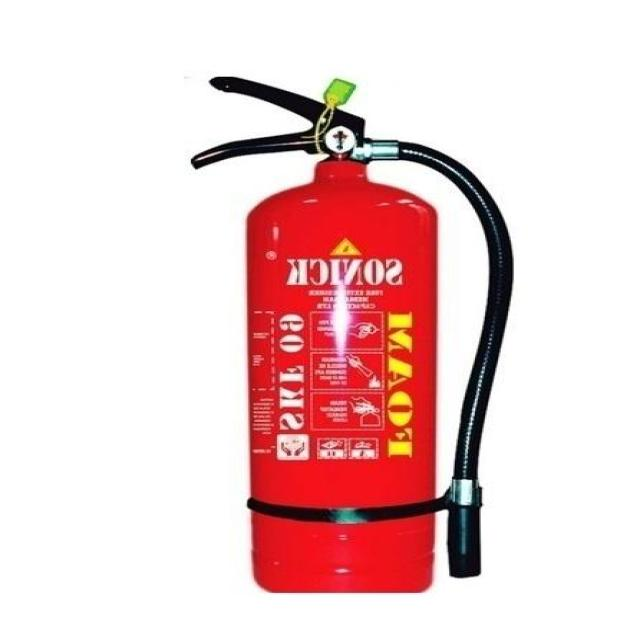fire_extinguisher: (182, 69, 520, 596)
